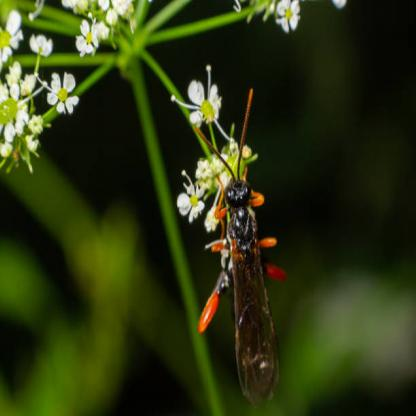sawfly: (190, 86, 291, 412)
